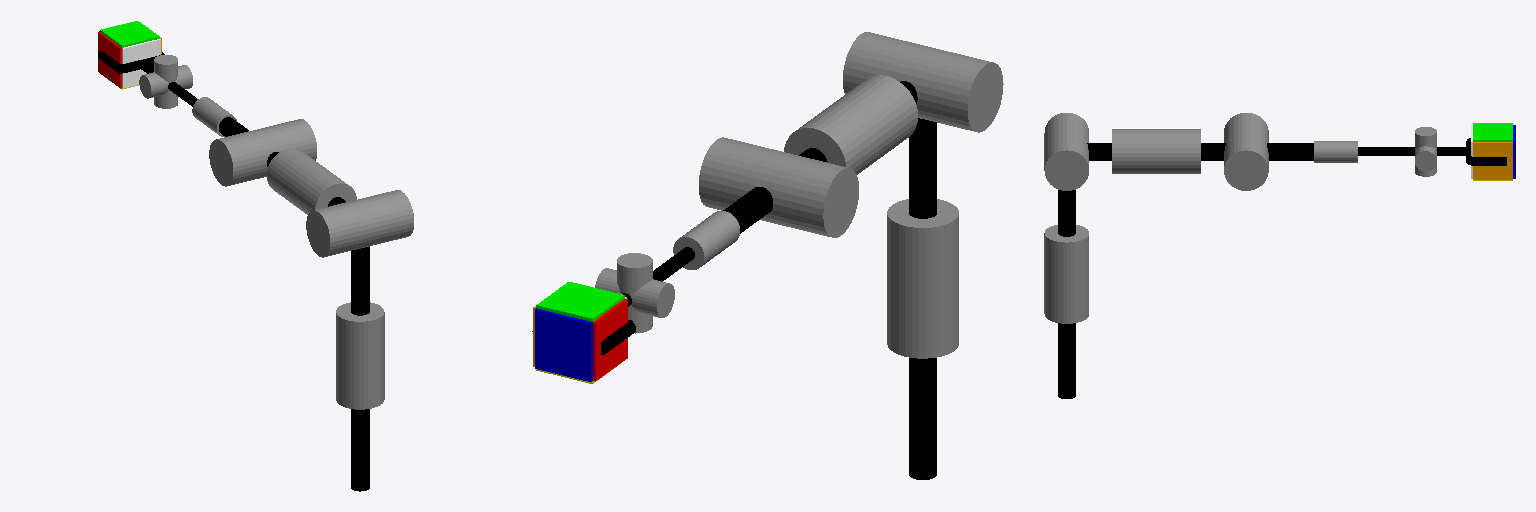
URDF robot description (SixRevolute):
<?xml version="1.0"?>

<robot name="SixRevolute">
  
  <!-- *************************************************** -->
  <!-- ******************** Kinematics ******************* -->
  <!-- *************************************************** -->

  <link name="world"/>

  <joint name="theta1" type="continuous">
    <parent link="world"/>
    <child  link="link1"/>
    <origin xyz="0 0 0.6" rpy="0 0 0"/>
    <axis   xyz="0 0 1"/>
    <dynamics damping="0.5"/>
  </joint>

  <link name="link1"/>

  <joint name="theta2" type="continuous">
    <parent link="link1"/>
    <child  link="link2"/>
    <origin xyz="0 0 0" rpy="0 0 0"/>
    <axis   xyz="1 0 0"/>
    <dynamics damping="1.0"/>
  </joint>

  <link name="link2"/>

  <joint name="attach-shoulder" type="fixed">
    <parent link="link2"/>
    <child  link="shoulder"/>
  </joint>

  <link name="shoulder"/>

  <joint name="theta3" type="continuous">
    <parent link="link2"/>
    <child  link="link3"/>
    <origin xyz="0 0.4 0" rpy="0 0 0"/>
    <axis   xyz="0 1 0 "/>
    <dynamics damping="0.05"/>
  </joint>

  <link name="link3"/>

  <joint name="theta4" type="continuous">
    <parent link="link3"/>
    <child  link="link4"/>
    <origin xyz="0 0 0" rpy="0 0 0"/>
    <axis   xyz="1 0 0 "/>
    <dynamics damping="0.1"/>
  </joint>

  <link name="link4"/>

  <joint name="attach-elbow" type="fixed">
    <parent link="link4"/>
    <child  link="elbow"/>
  </joint>

  <link name="elbow"/>

  <joint name="theta5" type="continuous">
    <parent link="link4"/>
    <child  link="link5"/>
    <origin xyz="0 0.4 0" rpy="0 0 0"/>
    <axis   xyz="0 1 0"/>
    <dynamics damping="0.02"/>
  </joint>

  <link name="link5"/>

  <joint name="theta6" type="continuous">
    <parent link="link5"/>
    <child  link="link6"/>
    <origin xyz="0 0 0" rpy="0 0 0"/>
    <axis   xyz="0 0 1"/>
    <dynamics damping="0.02"/>
  </joint>

  <link name="link6"/>

  <joint name="theta7" type="continuous">
    <parent link="link6"/>
    <child  link="link7"/>
    <origin xyz="0 0 0" rpy="0 0 0"/>
    <axis   xyz="1 0 0"/>
    <dynamics damping="0.02"/>
  </joint>

  <link name="link7"/>

  <joint name="attach-wrist" type="fixed">
    <parent link="link7"/>
    <child  link="wrist"/>
  </joint>

  <link name="wrist"/>

  <joint name="final" type="fixed">
    <parent link="link7"/>
    <child  link="tip"/>
    <origin xyz="0 0.15 0" rpy="1.5708 0 3.1416"/>
  </joint>

  <link name="tip"/>


  <!-- *************************************************** -->
  <!-- ******************* RVIZ Colors ******************* -->
  <!-- *************************************************** -->

  <material name="white">    <color rgba="1.00 1.00 1.00 1"/>  </material>
  <material name="gray">     <color rgba="0.60 0.60 0.60 1"/>  </material>
  <material name="table">    <color rgba="0.85 0.77 0.77 1"/>  </material>
  <material name="black">    <color rgba="0.00 0.00 0.00 1"/>  </material>

  <material name="red">      <color rgba="1.00 0.00 0.00 1"/>  </material>
  <material name="green">    <color rgba="0.00 1.00 0.00 1"/>  </material>
  <material name="blue">     <color rgba="0.00 0.00 1.00 1"/>  </material>

  <material name="cyan">     <color rgba="0.00 1.00 1.00 1"/>  </material>
  <material name="magenta">  <color rgba="1.00 0.00 1.00 1"/>  </material>
  <material name="yellow">   <color rgba="1.00 1.00 0.00 1"/>  </material>

  <material name="orange">   <color rgba="1.00 0.65 0.00 1"/>  </material>


  <!-- *************************************************** -->
  <!-- ****** Building Blocks (Visual AND Inertial) ****** -->
  <!-- *************************************************** -->

  <!-- *** World-Fixed: Mount 1, Motor 1 *** -->

  <joint name="attach-mount1" type="fixed">
    <parent link="world"/>
    <child  link="mount1"/>
  </joint>
  <link name="mount1">
    <visual>
      <origin xyz="0 0 0.1" rpy="0 0 0"/>
      <geometry>
	<cylinder length="0.2" radius="0.02"/>
      </geometry>
      <material name="black"/>
    </visual>
    <inertial>
      <origin xyz="0 0 0.1" rpy="0 0 0"/>
      <mass value="0.2"/>
      <inertia
        ixx="0.000687" ixy="0.0" ixz="0.0"
        iyy="0.000687" iyz="0.0"
        izz="0.000040"/>
    </inertial>
  </link>

  <joint name="attach-motor1" type="fixed">
    <parent link="world"/>
    <child  link="motor1"/>
  </joint>
  <link name="motor1">
    <visual>
      <origin xyz="0 0 0.3" rpy="0 0 0"/>
      <geometry>
	<cylinder length="0.2" radius="0.05"/>
      </geometry>
      <material name="gray"/>
    </visual>
    <inertial>
      <origin xyz="0 0 0.3" rpy="0 0 0"/>
      <mass value="2.0"/>
      <inertia
        ixx="0.007917" ixy="0.0" ixz="0.0"
        iyy="0.007917" iyz="0.0"
        izz="0.002500"/>
    </inertial>
  </link>

  <!-- *** Motor 1 Output: Mount 2, Motor 2 *** -->

  <joint name="attach-mount2" type="fixed">
    <parent link="link1"/>
    <child  link="mount2"/>
  </joint>
  <link name="mount2">
    <visual>
      <origin xyz="0 0 -0.1" rpy="0 0 0"/>
      <geometry>
	<cylinder length="0.2" radius="0.02"/>
      </geometry>
      <material name="black"/>
    </visual>
    <inertial>
      <origin xyz="0 0 -0.1" rpy="0 0 0"/>
      <mass value="0.2"/>
      <inertia
        ixx="0.000687" ixy="0.0" ixz="0.0"
        iyy="0.000687" iyz="0.0"
        izz="0.000040"/>
    </inertial>
  </link>

  <joint name="attach-motor2" type="fixed">
    <parent link="link1"/>
    <child  link="motor2"/>
  </joint>
  <link name="motor2">
    <visual>
      <origin xyz="0 0 0" rpy="0 1.5708 0"/>
      <geometry>
	<cylinder length="0.2" radius="0.05"/>
      </geometry>
      <material name="gray"/>
    </visual>
    <inertial>
      <origin xyz="0 0 0" rpy="0 1.5708 0"/>
      <mass value="2.0"/>
      <inertia
        ixx="0.007917" ixy="0.0" ixz="0.0"
        iyy="0.007917" iyz="0.0"
        izz="0.002500"/>
    </inertial>
  </link>

  <!-- *** Motor 2 Output: Mount 3, Motor 3 *** -->

  <joint name="attach-mount3" type="fixed">
    <parent link="link2"/>
    <child  link="mount3"/>
  </joint>
  <link name="mount3">
    <visual>
      <origin xyz="0 0.1 0" rpy="1.5708 0 0"/>
      <geometry>
	<cylinder length="0.2" radius="0.02"/>
      </geometry>
      <material name="black"/>
    </visual>
    <inertial>
      <origin xyz="0 0.1 0" rpy="1.5708 0 0"/>
      <mass value="0.2"/>
      <inertia
        ixx="0.000687" ixy="0.0" ixz="0.0"
        iyy="0.000687" iyz="0.0"
        izz="0.000040"/>
    </inertial>
  </link>

  <joint name="attach-motor3" type="fixed">
    <parent link="link2"/>
    <child  link="motor3"/>
  </joint>
  <link name="motor3">
    <visual>
      <origin xyz="0 0.2 0" rpy="1.5708 0 0"/>
      <geometry>
	<cylinder length="0.2" radius="0.05"/>
      </geometry>
      <material name="gray"/>
    </visual>
    <inertial>
      <origin xyz="0 0.2 0" rpy="1.5708 0 0"/>
      <mass value="2.0"/>
      <inertia
        ixx="0.007917" ixy="0.0" ixz="0.0"
        iyy="0.007917" iyz="0.0"
        izz="0.002500"/>
    </inertial>
  </link>

  <!-- *** Motor 3 Output: Mount 4, Motor 4 *** -->

  <joint name="attach-mount4" type="fixed">
    <parent link="link3"/>
    <child  link="mount4"/>
  </joint>
  <link name="mount4">
    <visual>
      <origin xyz="0 -0.1 0" rpy="1.5708 0 0"/>
      <geometry>
	<cylinder length="0.2" radius="0.02"/>
      </geometry>
      <material name="black"/>
    </visual>
    <inertial>
      <origin xyz="0 -0.1 0" rpy="1.5708 0 0"/>
      <mass value="0.2"/>
      <inertia
        ixx="0.000687" ixy="0.0" ixz="0.0"
        iyy="0.000687" iyz="0.0"
        izz="0.000040"/>
    </inertial>
  </link>

  <joint name="attach-motor4" type="fixed">
    <parent link="link3"/>
    <child  link="motor4"/>
  </joint>
  <link name="motor4">
    <visual>
      <origin xyz="0 0 0" rpy="0 1.5708 0"/>
      <geometry>
	<cylinder length="0.2" radius="0.05"/>
      </geometry>
      <material name="gray"/>
    </visual>
    <inertial>
      <origin xyz="0 0 0" rpy="0 1.5708 0"/>
      <mass value="2.0"/>
      <inertia
        ixx="0.007917" ixy="0.0" ixz="0.0"
        iyy="0.007917" iyz="0.0"
        izz="0.002500"/>
    </inertial>
  </link>

  <!-- *** Motor 4 Output: Mount 5, Motor 5 *** -->

  <joint name="attach-mount5" type="fixed">
    <parent link="link4"/>
    <child  link="mount5"/>
  </joint>
  <link name="mount5">
    <visual>
      <origin xyz="0 0.1 0" rpy="1.5708 0 0"/>
      <geometry>
	<cylinder length="0.2" radius="0.02"/>
      </geometry>
      <material name="black"/>
    </visual>
    <inertial>
      <origin xyz="0 0.1 0" rpy="1.5708 0 0"/>
      <mass value="0.2"/>
      <inertia
        ixx="0.000687" ixy="0.0" ixz="0.0"
        iyy="0.000687" iyz="0.0"
        izz="0.000040"/>
    </inertial>
  </link>

  <joint name="attach-motor5" type="fixed">
    <parent link="link4"/>
    <child  link="motor5"/>
  </joint>
  <link name="motor5">
    <visual>
      <origin xyz="0 0.2 0" rpy="1.5708 0 0"/>
      <geometry>
	<cylinder length="0.1" radius="0.025"/>
      </geometry>
      <material name="gray"/>
    </visual>
    <inertial>
      <origin xyz="0 0.2 0" rpy="1.5708 0 0"/>
      <mass value="1.0"/>
      <inertia
        ixx="0.000990" ixy="0.0" ixz="0.0"
        iyy="0.000990" iyz="0.0"
        izz="0.000313"/>
    </inertial>
  </link>

  <!-- *** Motor 5 Output: Mount 6, Motor 6 *** -->

  <joint name="attach-mount6" type="fixed">
    <parent link="link5"/>
    <child  link="mount6"/>
  </joint>
  <link name="mount6">
    <visual>
      <origin xyz="0 -0.1 0" rpy="1.5708 0 0"/>
      <geometry>
	<cylinder length="0.2" radius="0.01"/>
      </geometry>
      <material name="black"/>
    </visual>
    <inertial>
      <origin xyz="0 -0.1 0" rpy="1.5708 0 0"/>
      <mass value="0.1"/>
      <inertia
        ixx="0.000336" ixy="0.0" ixz="0.0"
        iyy="0.000336" iyz="0.0"
        izz="0.000005"/>
    </inertial>
  </link>

  <joint name="attach-motor6" type="fixed">
    <parent link="link5"/>
    <child  link="motor6"/>
  </joint>
  <link name="motor6">
    <visual>
      <origin xyz="0 0 0" rpy="0 0 0"/>
      <geometry>
	<cylinder length="0.1" radius="0.025"/>
      </geometry>
      <material name="gray"/>
    </visual>
    <inertial>
      <origin xyz="0 0 0" rpy="0 0 0"/>
      <mass value="1.0"/>
      <inertia
        ixx="0.000990" ixy="0.0" ixz="0.0"
        iyy="0.000990" iyz="0.0"
        izz="0.000313"/>
    </inertial>
  </link>

  <!-- *** Motor 6 Output: Motor 7 *** -->

  <joint name="attach-motor7" type="fixed">
    <parent link="link6"/>
    <child  link="motor7"/>
  </joint>
  <link name="motor7">
    <visual>
      <origin xyz="0 0 0" rpy="0 1.5708 0"/>
      <geometry>
	<cylinder length="0.1" radius="0.025"/>
      </geometry>
      <material name="gray"/>
    </visual>
    <inertial>
      <origin xyz="0 0 0" rpy="0 1.5708 0"/>
      <mass value="1.0"/>
      <inertia
        ixx="0.000990" ixy="0.0" ixz="0.0"
        iyy="0.000990" iyz="0.0"
        izz="0.000313"/>
    </inertial>
  </link>

  <!-- *** Motor 7 Output: Base, Palm, Fingers *** -->

  <joint name="attach-handbase" type="fixed">
    <parent link="link7"/>
    <child  link="handbase"/>
  </joint>
  <link name="handbase">
    <visual>
      <origin xyz="0 0.05 0" rpy="1.5708 0 0"/>
      <geometry>
	<cylinder length="0.1" radius="0.01"/>
      </geometry>
      <material name="black"/>
    </visual>
    <inertial>
      <origin xyz="0 0.05 0" rpy="1.5708 0 0"/>
      <mass value="0.05"/>
      <inertia
        ixx="0.000043" ixy="0.0" ixz="0.0"
        iyy="0.000043" iyz="0.0"
        izz="0.000003"/>
    </inertial>
  </link>

  <joint name="attach-palm" type="fixed">
    <parent link="link7"/>
    <child  link="palm"/>
  </joint>
  <link name="palm">
    <visual>
      <origin xyz="0 0.1 0" rpy="0 1.5708 0"/>
      <geometry>
	<cylinder length="0.1" radius="0.01"/>
      </geometry>
      <material name="black"/>
    </visual>
    <inertial>
      <origin xyz="0 0.1 0" rpy="0 1.5708 0"/>
      <mass value="0.05"/>
      <inertia
        ixx="0.000043" ixy="0.0" ixz="0.0"
        iyy="0.000043" iyz="0.0"
        izz="0.000003"/>
    </inertial>
  </link>

  <joint name="attach-leftfinger" type="fixed">
    <parent link="link7"/>
    <child  link="leftfinger"/>
  </joint>
  <link name="leftfinger">
    <visual>
      <origin xyz="-0.05 0.14 0" rpy="1.5708 0 0"/>
      <geometry>
	<cylinder length="0.08" radius="0.01"/>
      </geometry>
      <material name="black"/>
    </visual>
    <inertial>
      <origin xyz="-0.05 0.14 0" rpy="1.5708 0 0"/>
      <mass value="0.05"/>
      <inertia
        ixx="0.000022" ixy="0.0" ixz="0.0"
        iyy="0.000022" iyz="0.0"
        izz="0.000002"/>
    </inertial>
  </link>

  <joint name="attach-rightfinger" type="fixed">
    <parent link="link7"/>
    <child  link="rightfinger"/>
  </joint>
  <link name="rightfinger">
    <visual>
      <origin xyz="0.05 0.14 0" rpy="1.5708 0 0"/>
      <geometry>
	<cylinder length="0.08" radius="0.01"/>
      </geometry>
      <material name="black"/>
    </visual>
    <inertial>
      <origin xyz="0.05 0.14 0" rpy="1.5708 0 0"/>
      <mass value="0.05"/>
      <inertia
        ixx="0.000022" ixy="0.0" ixz="0.0"
        iyy="0.000022" iyz="0.0"
        izz="0.000002"/>
    </inertial>
  </link>

  <!-- *** Object: Six sides *** -->

  <joint name="attach-cube-up" type="fixed">
    <parent link="tip"/>
    <child  link="cube-up"/>
  </joint>
  <link name="cube-up">
    <visual>
      <origin xyz="0 0.04 0" rpy="0 0 0"/>
      <geometry>
	<box size="0.09 0.0202 0.09"/>
      </geometry>
      <material name="green"/>
    </visual>
    <inertial>
      <origin xyz="0 0 0" rpy="0 0 0"/>
      <mass value="0.16"/>
      <inertia
        ixx="0.000020" ixy="0.0" ixz="0.0"
        iyy="0.000020" iyz="0.0"
        izz="0.000020"/>
    </inertial>
  </link>

  <joint name="attach-cube-down" type="fixed">
    <parent link="tip"/>
    <child  link="cube-down"/>
  </joint>
  <link name="cube-down">
    <visual>
      <origin xyz="0 -0.04 0" rpy="0 0 0"/>
      <geometry>
	<box size="0.09 0.0202 0.09"/>
      </geometry>
      <material name="yellow"/>
    </visual>
    <inertial>
      <origin xyz="0 0 0" rpy="0 0 0"/>
      <mass value="0.16"/>
      <inertia
        ixx="0.000020" ixy="0.0" ixz="0.0"
        iyy="0.000020" iyz="0.0"
        izz="0.000020"/>
    </inertial>
  </link>

  <joint name="attach-cube-left" type="fixed">
    <parent link="tip"/>
    <child  link="cube-left"/>
  </joint>
  <link name="cube-left">
    <visual>
      <origin xyz="0.04 0 0" rpy="0 0 0"/>
      <geometry>
	<box size="0.0202 0.09 0.09"/>
      </geometry>
      <material name="red"/>
    </visual>
    <inertial>
      <origin xyz="0 0 0" rpy="0 0 0"/>
      <mass value="0.16"/>
      <inertia
        ixx="0.000020" ixy="0.0" ixz="0.0"
        iyy="0.000020" iyz="0.0"
        izz="0.000020"/>
    </inertial>
  </link>

  <joint name="attach-cube-right" type="fixed">
    <parent link="tip"/>
    <child  link="cube-right"/>
  </joint>
  <link name="cube-right">
    <visual>
      <origin xyz="-0.04 0 0" rpy="0 0 0"/>
      <geometry>
	<box size="0.0202 0.09 0.09"/>
      </geometry>
      <material name="orange"/>
    </visual>
    <inertial>
      <origin xyz="0 0 0" rpy="0 0 0"/>
      <mass value="0.16"/>
      <inertia
        ixx="0.000020" ixy="0.0" ixz="0.0"
        iyy="0.000020" iyz="0.0"
        izz="0.000020"/>
    </inertial>
  </link>

  <joint name="attach-cube-front" type="fixed">
    <parent link="tip"/>
    <child  link="cube-front"/>
  </joint>
  <link name="cube-front">
    <visual>
      <origin xyz="0 0 0.04" rpy="0 0 0"/>
      <geometry>
	<box size="0.09 0.09 0.0202"/>
      </geometry>
      <material name="blue"/>
    </visual>
    <inertial>
      <origin xyz="0 0 0" rpy="0 0 0"/>
      <mass value="0.16"/>
      <inertia
        ixx="0.000020" ixy="0.0" ixz="0.0"
        iyy="0.000020" iyz="0.0"
        izz="0.000020"/>
    </inertial>
  </link>

  <joint name="attach-cube-back" type="fixed">
    <parent link="tip"/>
    <child  link="cube-back"/>
  </joint>
  <link name="cube-back">
    <visual>
      <origin xyz="0 0 -0.04" rpy="0 0 0"/>
      <geometry>
	<box size="0.09 0.09 0.0202"/>
      </geometry>
      <material name="white"/>
    </visual>
    <inertial>
      <origin xyz="0 0 0" rpy="0 0 0"/>
      <mass value="0.16"/>
      <inertia
        ixx="0.000020" ixy="0.0" ixz="0.0"
        iyy="0.000020" iyz="0.0"
        izz="0.000020"/>
    </inertial>
  </link>

  <!-- *************************************************** -->
  <!-- ******************* Gazebo Colors ***************** -->
  <!-- *************************************************** -->

  <gazebo reference="motor1"> <material>Gazebo/Gray</material>  </gazebo>
  <gazebo reference="motor2"> <material>Gazebo/Gray</material>  </gazebo>
  <gazebo reference="motor3"> <material>Gazebo/Gray</material>  </gazebo>
  <gazebo reference="motor4"> <material>Gazebo/Gray</material>  </gazebo>
  <gazebo reference="motor5"> <material>Gazebo/Gray</material>  </gazebo>
  <gazebo reference="motor6"> <material>Gazebo/Gray</material>  </gazebo>
  <gazebo reference="motor7"> <material>Gazebo/Gray</material>  </gazebo>

  <gazebo reference="mount1">   <material>Gazebo/Black</material> </gazebo>
  <gazebo reference="mount2">   <material>Gazebo/Black</material> </gazebo>
  <gazebo reference="mount3">   <material>Gazebo/Black</material> </gazebo>
  <gazebo reference="mount4">   <material>Gazebo/Black</material> </gazebo>
  <gazebo reference="mount5">   <material>Gazebo/Black</material> </gazebo>
  <gazebo reference="mount6">   <material>Gazebo/Black</material> </gazebo>

  <gazebo reference="handbase">    <material>Gazebo/Black</material> </gazebo>
  <gazebo reference="palm">        <material>Gazebo/Black</material> </gazebo>
  <gazebo reference="leftfinger">  <material>Gazebo/Black</material> </gazebo>
  <gazebo reference="rightfinger"> <material>Gazebo/Black</material> </gazebo>

  <gazebo reference="cube-up">    <material>Gazebo/Green</material>  </gazebo>
  <gazebo reference="cube-down">  <material>Gazebo/Yellow</material> </gazebo>
  <gazebo reference="cube-left">  <material>Gazebo/Red</material>    </gazebo>
  <gazebo reference="cube-right"> <material>Gazebo/Orange</material> </gazebo>
  <gazebo reference="cube-front"> <material>Gazebo/Blue</material>   </gazebo>
  <gazebo reference="cube-back">  <material>Gazebo/White</material>  </gazebo>

</robot>

--- What the picture shows (computed from the rendered views, not written in the file) ---
3 views of the same robot in one strip: view 1: azimuth 30°, elevation 25°; view 2: azimuth 150°, elevation 25°; view 3: azimuth 270°, elevation 25° (orthographic).
Model SixRevolute with 35 links and 34 joints (7 continuous, 27 fixed), rooted at world, posed every joint at zero.
Visible links, largest first — view 1: motor2, motor1, motor4, motor3, mount1, mount2, cube-up, cube-back, motor6, motor7, motor5, cube-left; view 2: motor1, motor4, motor2, motor3, cube-front, mount1, mount2, motor5, cube-up, cube-left, motor7, motor6 (+2 smaller); view 3: motor1, motor3, motor2, motor4, mount1, cube-right, motor5, mount5, mount2, cube-up, motor6.
Link boxes in pixels (x1,y1,x2,y2): motor2: (306,190,413,257); motor1: (336,302,384,409); motor4: (209,119,316,186); motor3: (267,148,356,214); mount1: (351,409,369,491); mount2: (351,246,369,315); cube-up: (100,21,159,47); cube-back: (122,39,160,87); motor6: (154,55,177,108); motor7: (139,65,192,98); motor5: (192,97,236,136); cube-left: (98,32,121,87); motor1: (887,199,958,358); motor4: (699,137,858,237); motor2: (843,32,1003,132); motor3: (784,75,917,174); cube-front: (535,308,592,381); mount1: (909,358,936,479); mount2: (909,118,936,218); motor5: (673,211,739,269); cube-up: (536,282,624,321); cube-left: (593,299,627,381); motor7: (595,268,674,317); motor6: (617,253,652,333); motor1: (1044,225,1088,323); motor3: (1112,129,1200,173); motor2: (1044,113,1088,190); motor4: (1224,113,1268,190); mount1: (1058,323,1075,398); cube-right: (1473,142,1512,179); motor5: (1314,141,1357,162); mount5: (1267,143,1313,160); mount2: (1058,190,1075,236); cube-up: (1473,123,1512,141); motor6: (1415,127,1436,176).
Size in the robot's own frame: 0.2 by 1.05 by 0.6501 metres.
Geometry: primitives only (box / cylinder / sphere), no mesh files.
